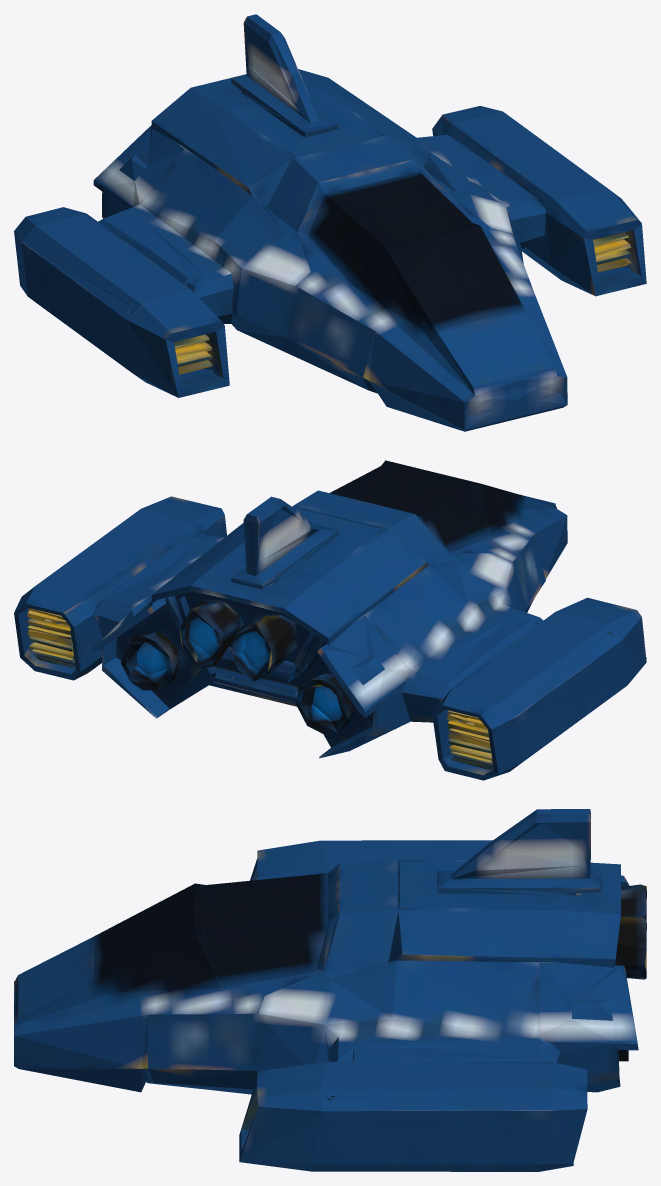
The picture shows the model from 3 angles, top to bottom: view 1: azimuth 30°, elevation 25°; view 2: azimuth 150°, elevation 25°; view 3: azimuth 270°, elevation 25°; orthographic projection. The views are drawn at different scales.
Visible parts, largest first — view 1: world; view 2: world; view 3: world.
Part boxes in pixels (x1=…): world: x1=14, y1=14, x2=646, y2=431; world: x1=14, y1=460, x2=646, y2=780; world: x1=14, y1=809, x2=646, y2=1171.
Size of the model in its own units: 0.9878 by 0.4254 by 1.
1 material, 1 textured.
